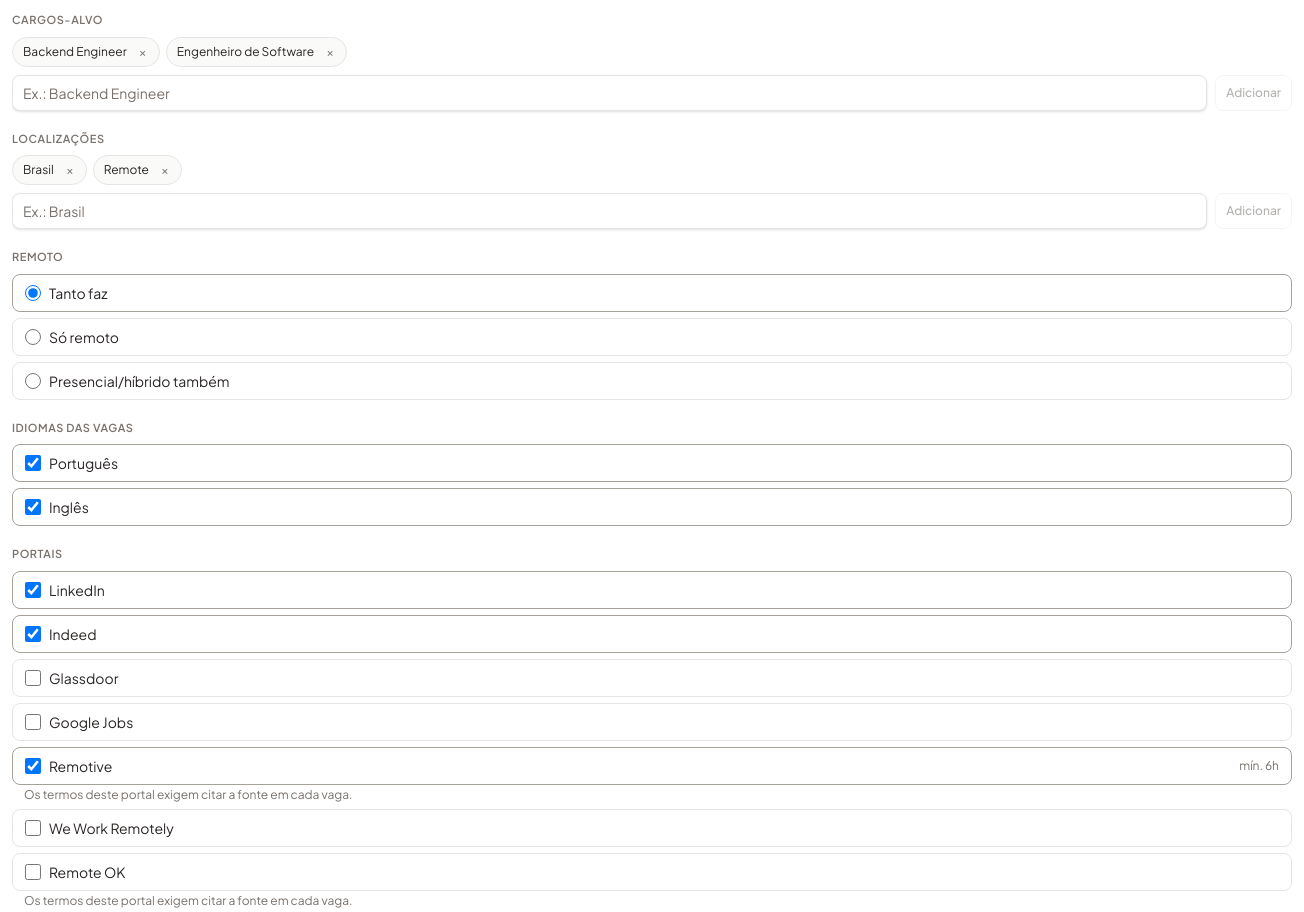
Test: SearchProfileForm › adds a role chip with Enter without submitting the form
Type "Staff Engineer" into the field named "Adicionar cargo" at (610, 92), box x1=12 y1=74 x2=1207 y2=110
Then press Enter
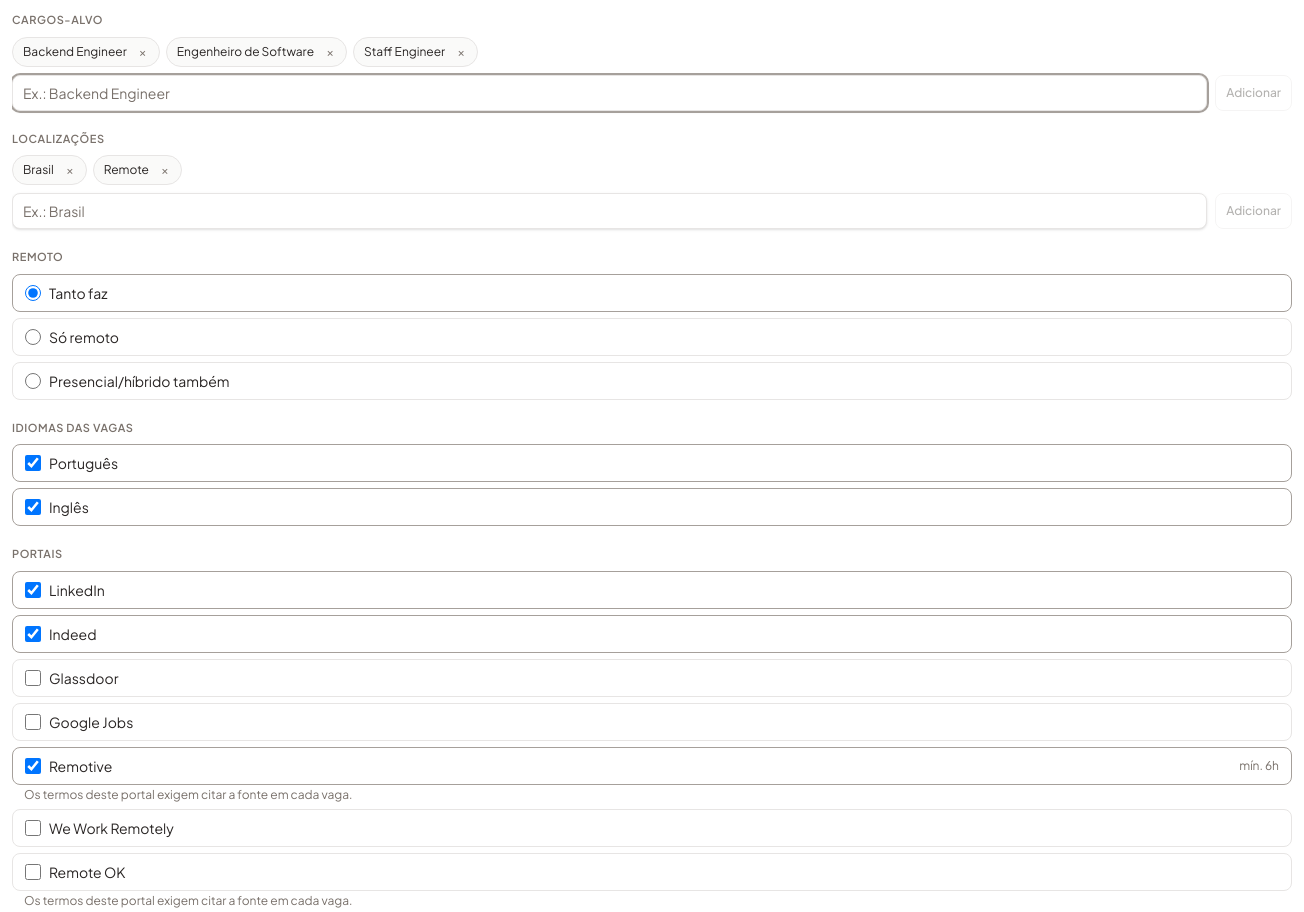
Now the text "Staff Engineer" is shown, box x1=364 y1=44 x2=445 y2=60
